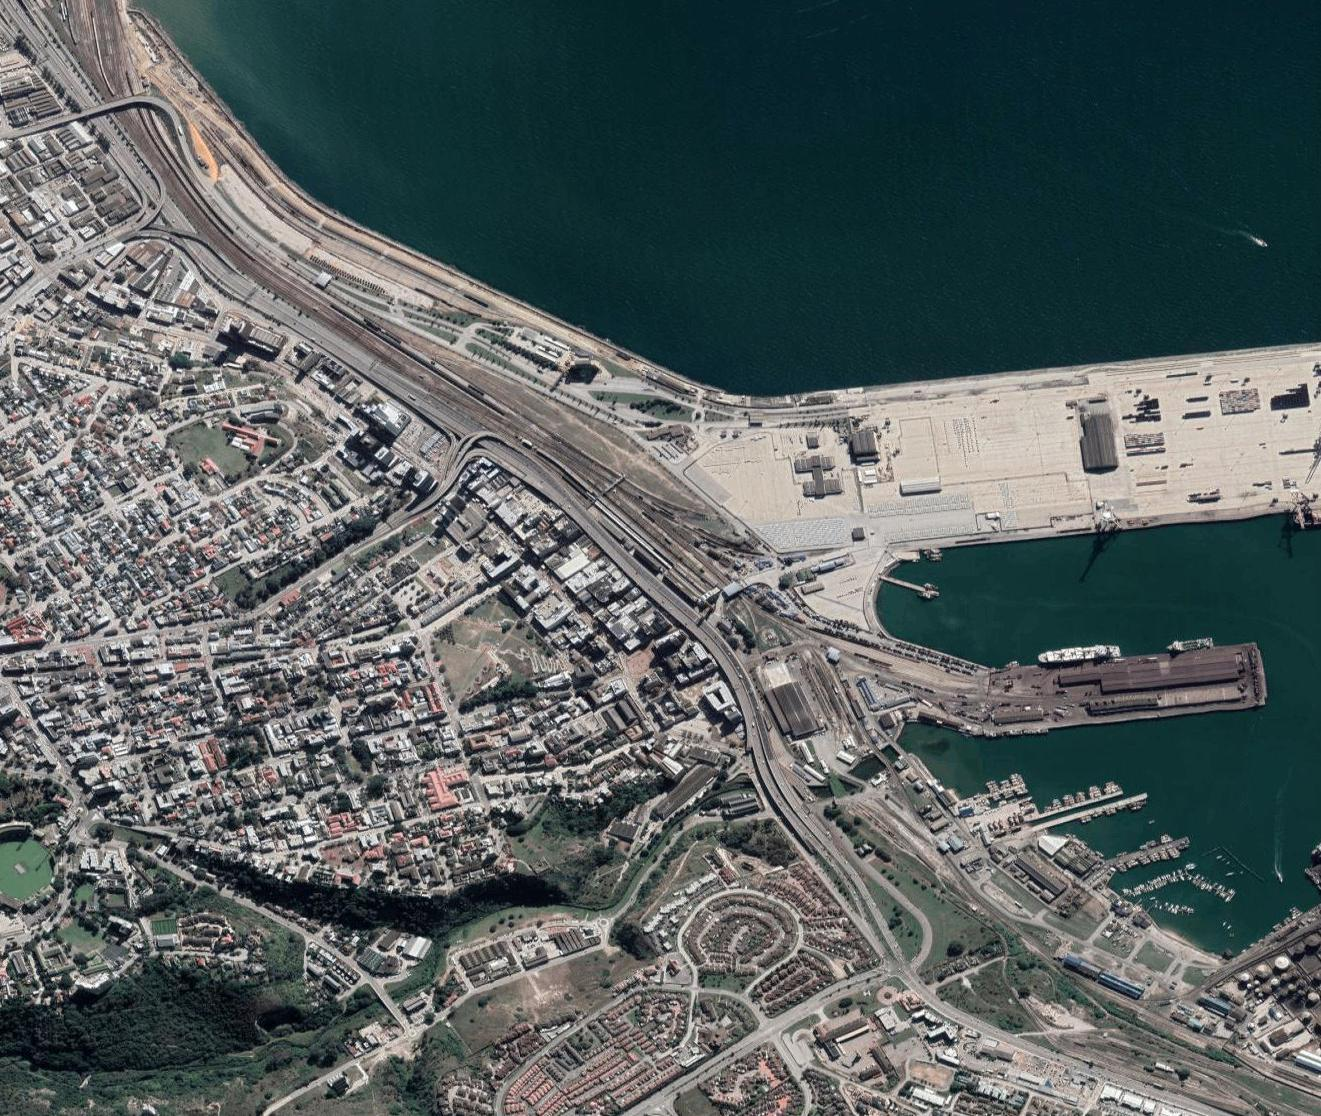harbor: (796, 319, 1321, 996)
motorway: (116, 148, 326, 353), (334, 347, 551, 496), (553, 490, 718, 652), (716, 651, 816, 843), (1, 1, 110, 153), (811, 843, 898, 969)
train_station: (608, 495, 725, 619)
